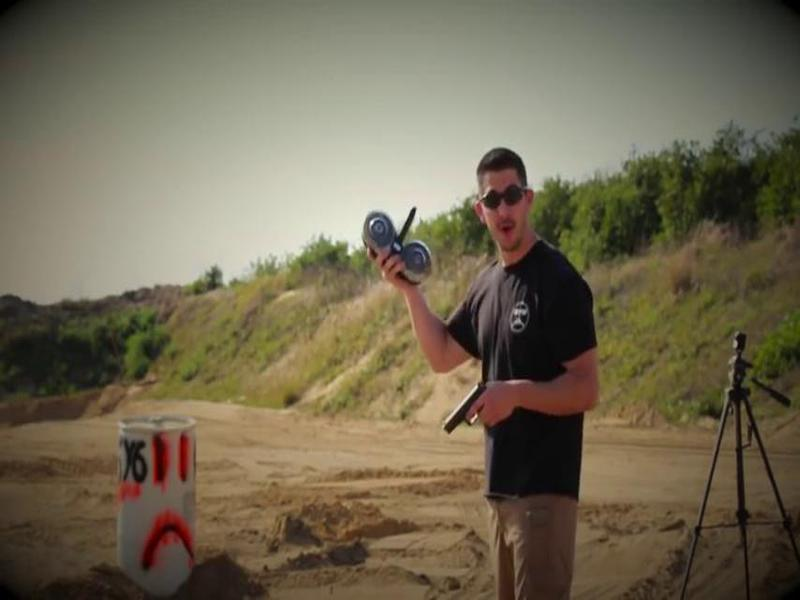Pistola: (442, 377, 502, 439)
